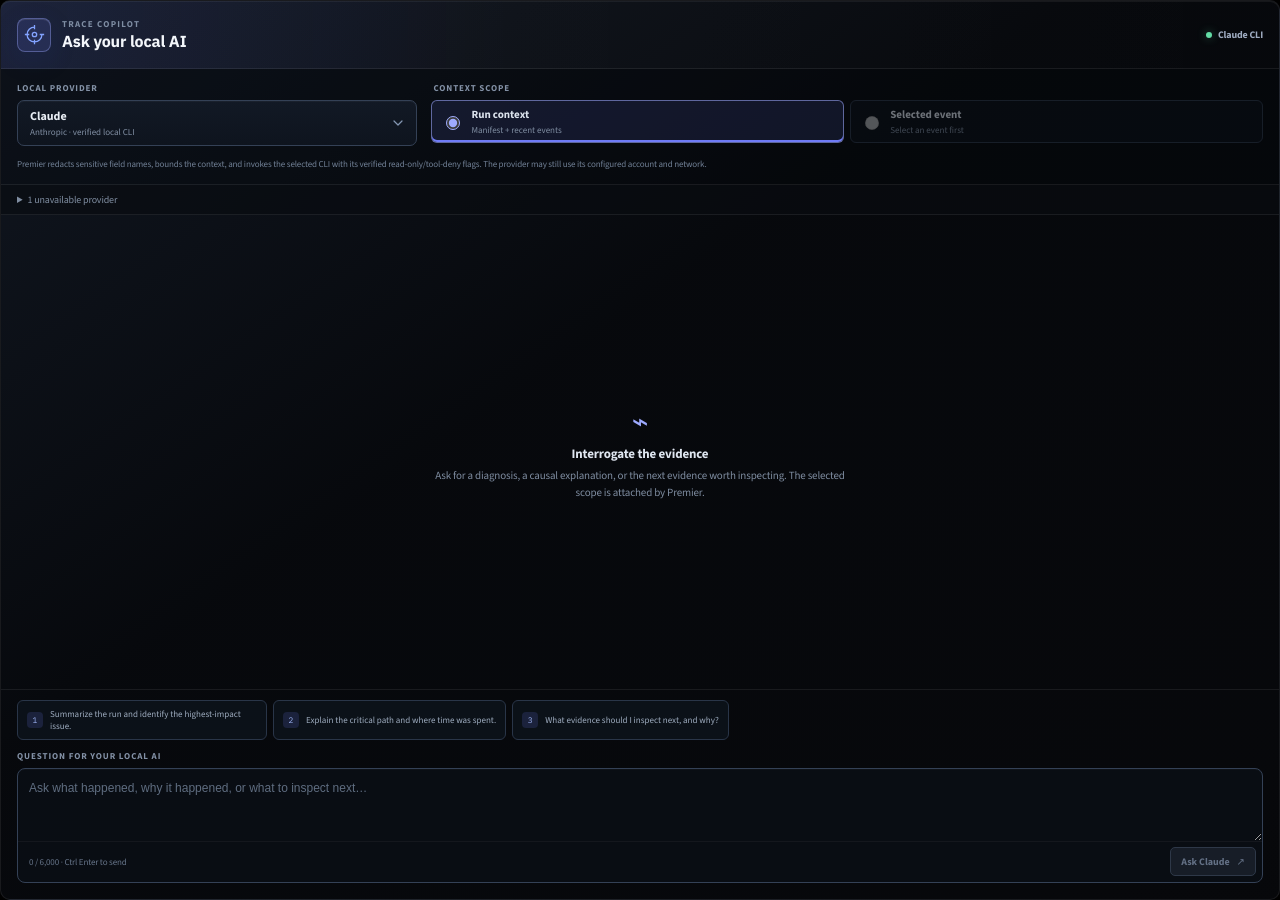
LocalAssistant › preserves a failed question and exposes the real backend error
Expected: the button with aria-label "Local provider" is shown, [17,100,417,146]
Type "Diagnose this" into the text box labelled "Question for your local AI" at (640, 805), box [18,769,1262,841]
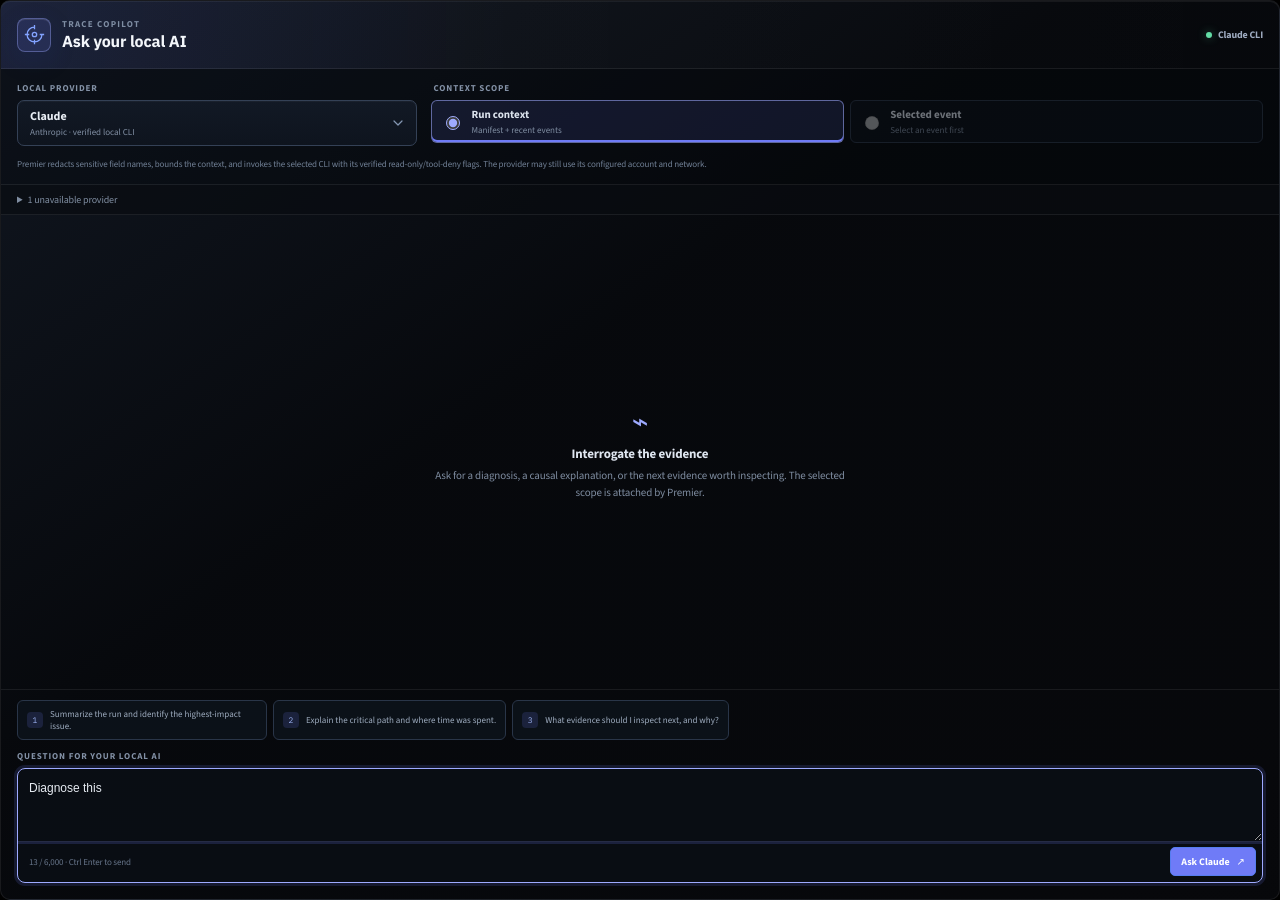
Click the button "Ask Claude ↗" at (1213, 862), box [1170,847,1256,876]
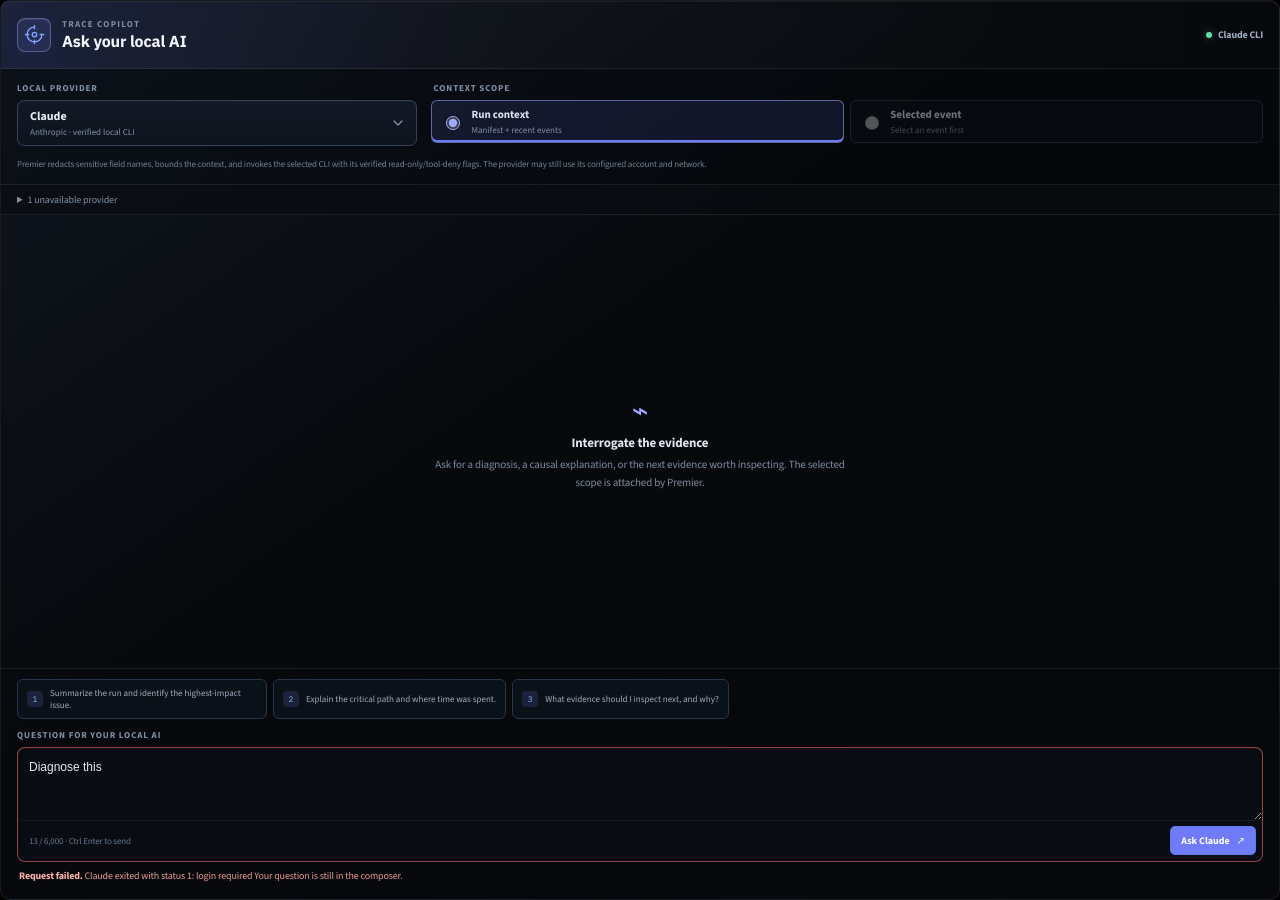
Result: the message shows "Claude exited with status 1: login required" at [83,869,403,882]
